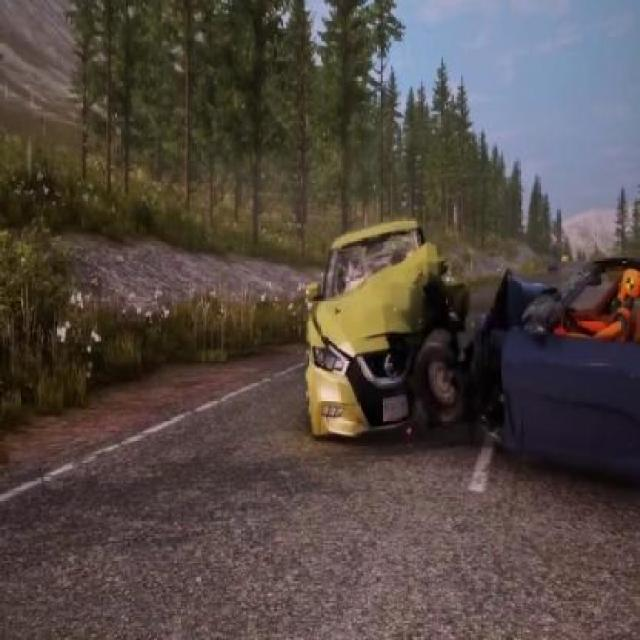accident: (278, 189, 638, 491)
